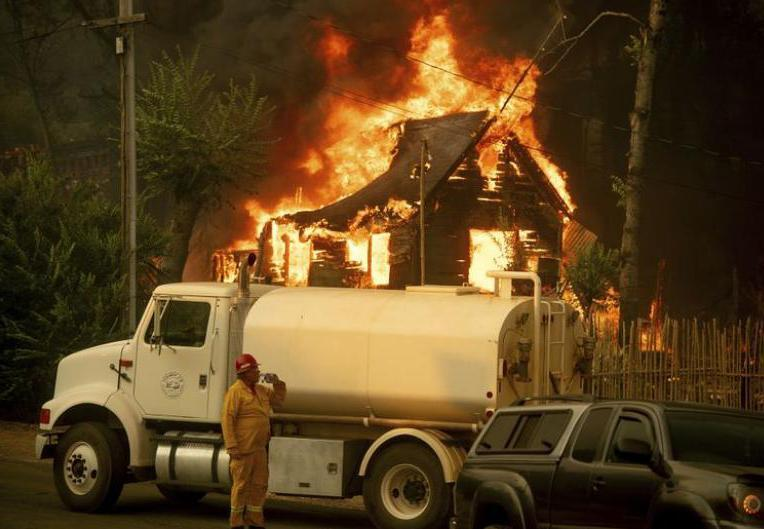Fire: (209, 10, 671, 355)
